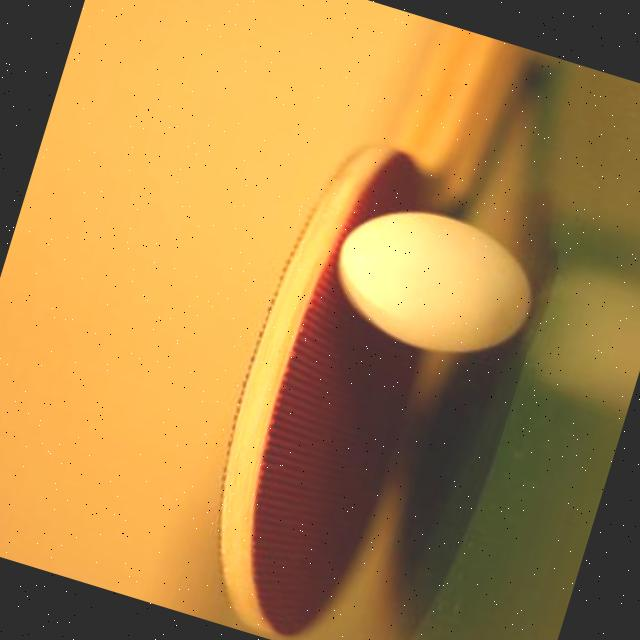ping-pong-ball: (314, 188, 550, 376)
